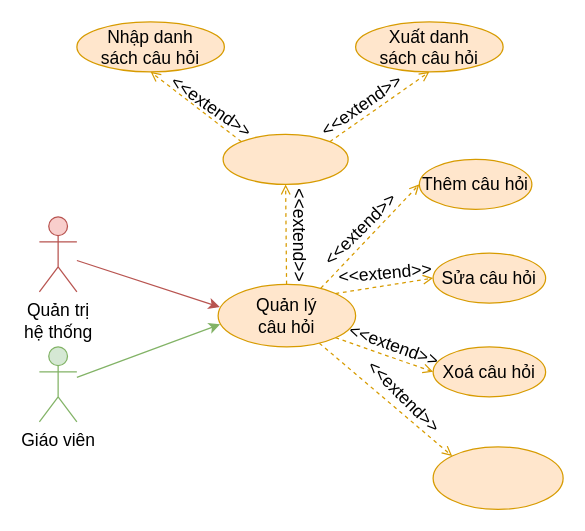
The diagram is 585 pixels wide and 531 high, and some of its shapes have lost their labels. Here are the shapes that lost their labels. From the top down, the centre of each, then its label:
At point 285,158: "Nhập/Xuất".
At point 497,477: "Tìm kiếm & lọc câu hỏi".
